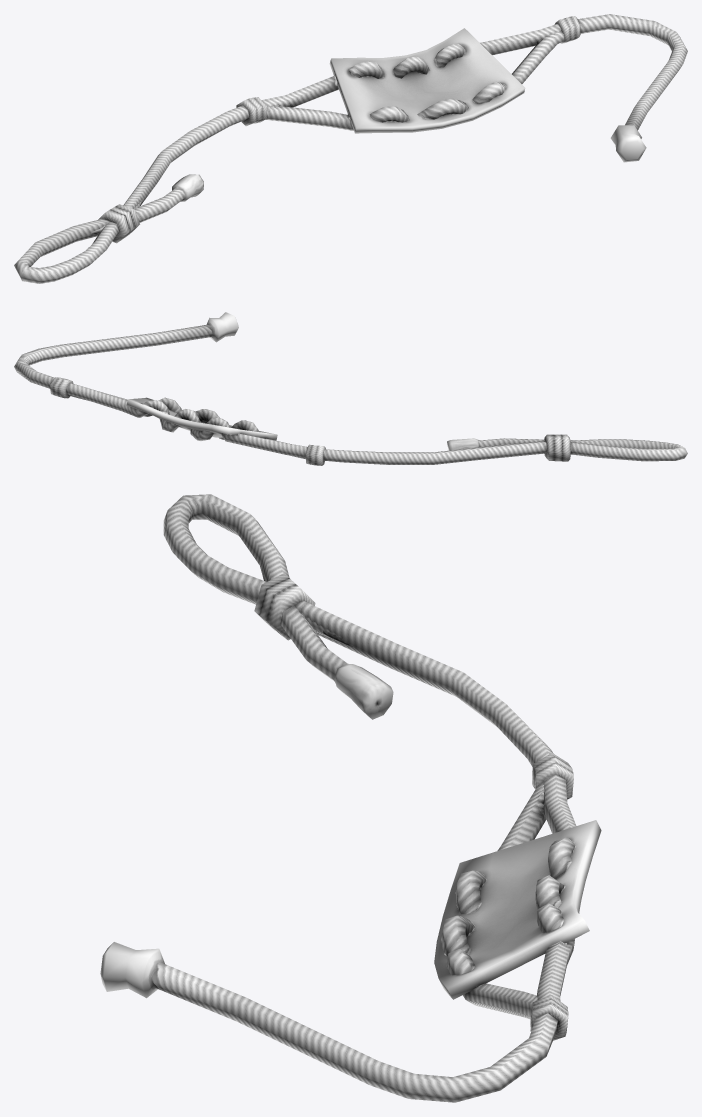
File: 024_a_sling_lp.fbx
3 renders of one model, top to bottom at view 1: azimuth 30°, elevation 25°; view 2: azimuth 150°, elevation 25°; view 3: azimuth 270°, elevation 25°, orthographic. The views are drawn at different scales.
Visible parts, largest first — view 1: 024_a_sling; view 2: 024_a_sling; view 3: 024_a_sling.
Boxes of the visible parts, box(x1,y1,x2,y2) form: 024_a_sling: box(14, 14, 687, 283); 024_a_sling: box(14, 312, 687, 465); 024_a_sling: box(100, 494, 601, 1102).
Bounding box in the file's own units: 53.65 × 3.83 × 19.36.
